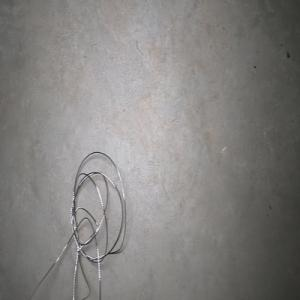Wire: (28, 152, 126, 300)
